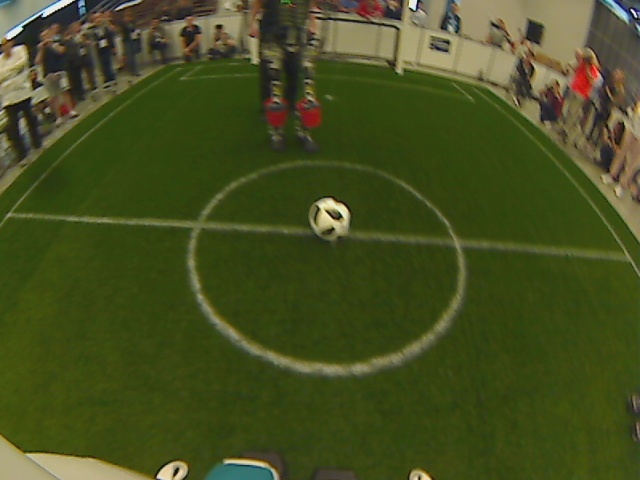ball: (305, 195, 355, 243)
